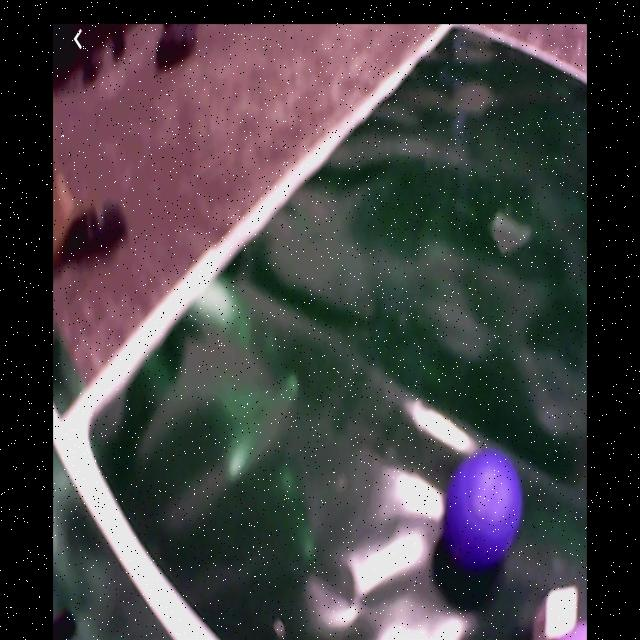ball: (446, 446, 522, 573)
